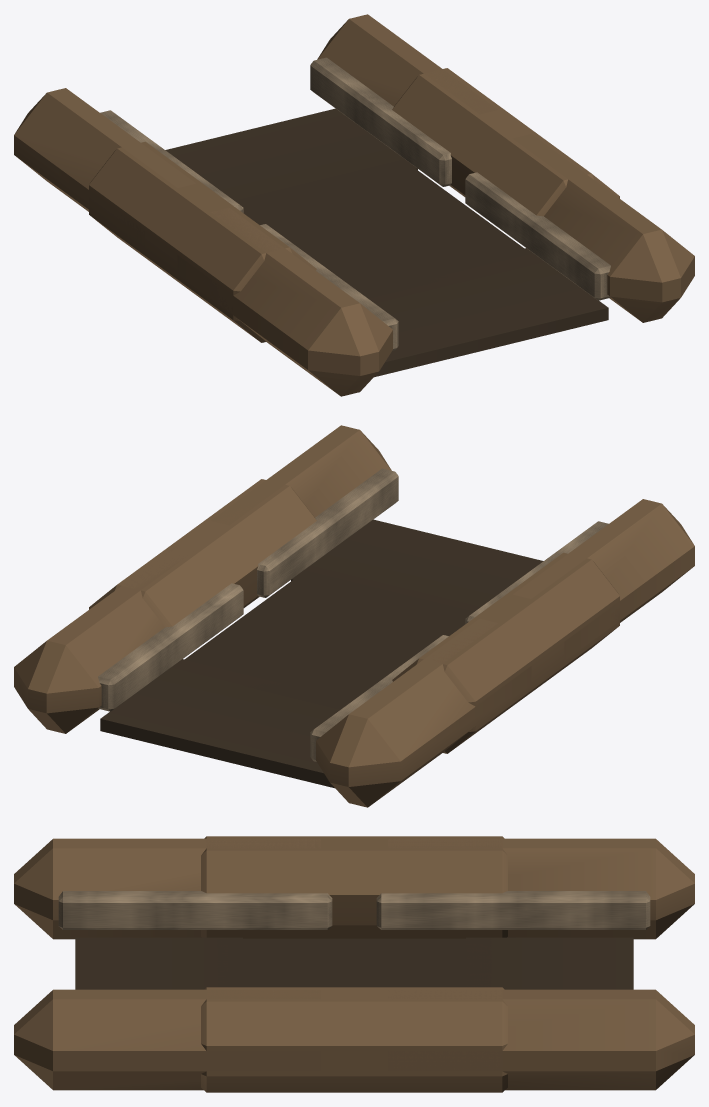
File: trench_straight.glb
3 views of the same model, one above another, from view 1: azimuth 30°, elevation 25°; view 2: azimuth 150°, elevation 25°; view 3: azimuth 270°, elevation 25° (orthographic). The views are drawn at different scales.
Parts seen in each view (by area): view 1: Earth revetment, Trench dark earth, Timber worn edges; view 2: Earth revetment, Trench dark earth, Timber worn edges; view 3: Earth revetment, Trench dark earth, Timber worn edges.
Boxes of the visible parts, <box> form: Earth revetment: <box>14,14,694,396</box>; Trench dark earth: <box>165,108,608,377</box>; Timber worn edges: <box>100,57,610,350</box>; Earth revetment: <box>14,425,694,807</box>; Trench dark earth: <box>100,519,543,788</box>; Timber worn edges: <box>98,468,608,761</box>; Earth revetment: <box>14,836,694,1092</box>; Trench dark earth: <box>75,937,633,989</box>; Timber worn edges: <box>58,891,650,929</box>.
Size of the model in its own units: 0.82 by 0.18 by 1.22.
3 materials, 1 textured.
